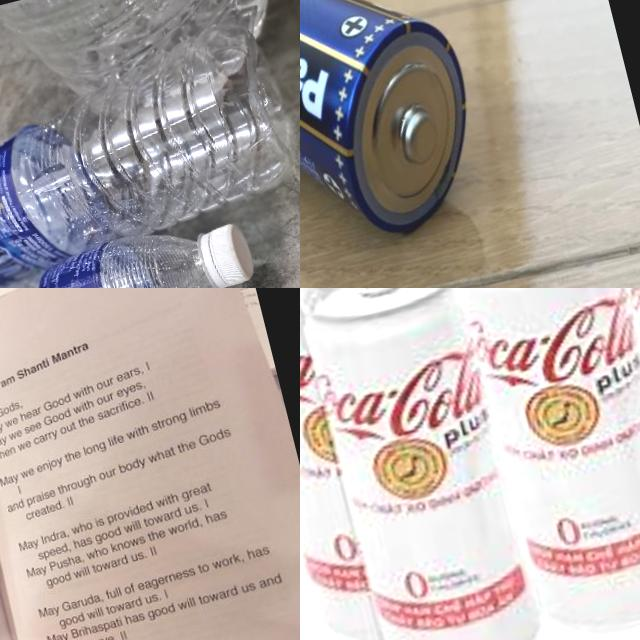aba de lata: (355, 288, 403, 300)
bateria: (300, 0, 501, 276)
garrafa plástica: (0, 15, 300, 288), (0, 0, 299, 144), (0, 218, 225, 288)
lata: (300, 288, 556, 640), (433, 288, 640, 640), (300, 288, 480, 640)
papel: (0, 288, 300, 640), (210, 288, 277, 381)
tampa plástica: (195, 218, 263, 288)
